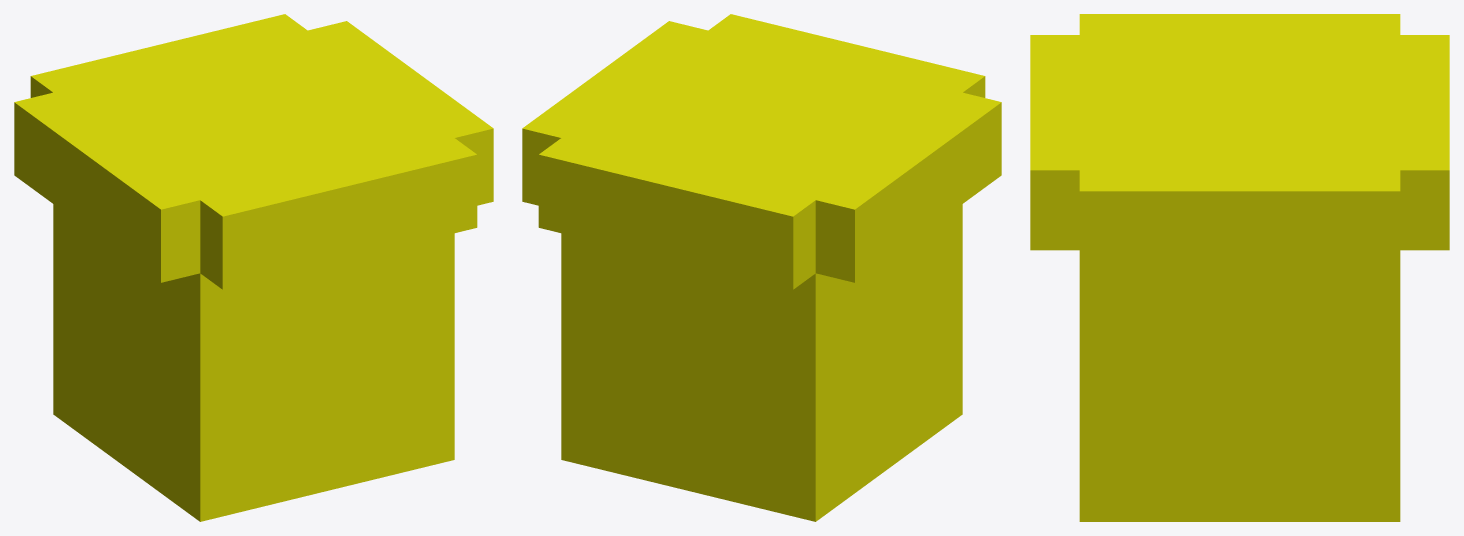
Rendered from flower.fbx.
3 views of the same model, side by side, from view 1: azimuth 30°, elevation 25°; view 2: azimuth 150°, elevation 25°; view 3: azimuth 270°, elevation 25° (orthographic). The views are drawn at different scales.
Visible parts, largest first — view 1: pCube2; view 2: pCube2; view 3: pCube2.
Part boxes in pixels (bbox=[...]): pCube2: bbox=[14, 14, 493, 521]; pCube2: bbox=[522, 14, 1001, 521]; pCube2: bbox=[1030, 14, 1449, 521].
Bounding box in the file's own units: 2.38 × 2.2 × 2.38.
